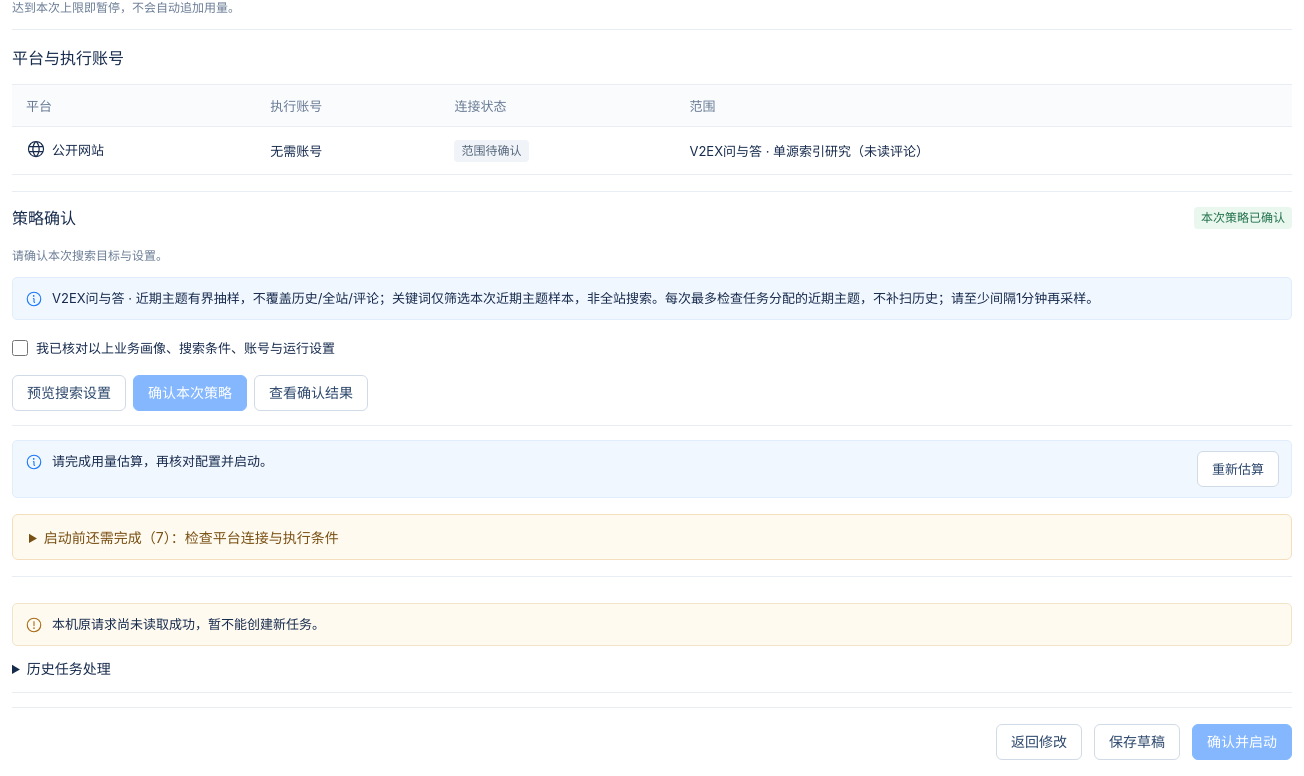
Scenario: original TaskWizard signed execution entry › starts selected v2ex-qna-v1 only while its fresh capability remains available (true, plan false)
(page scrolled)
Click the button "重新估算".
click(1238, 469)  # box [1197,451,1279,487]
(page scrolled)
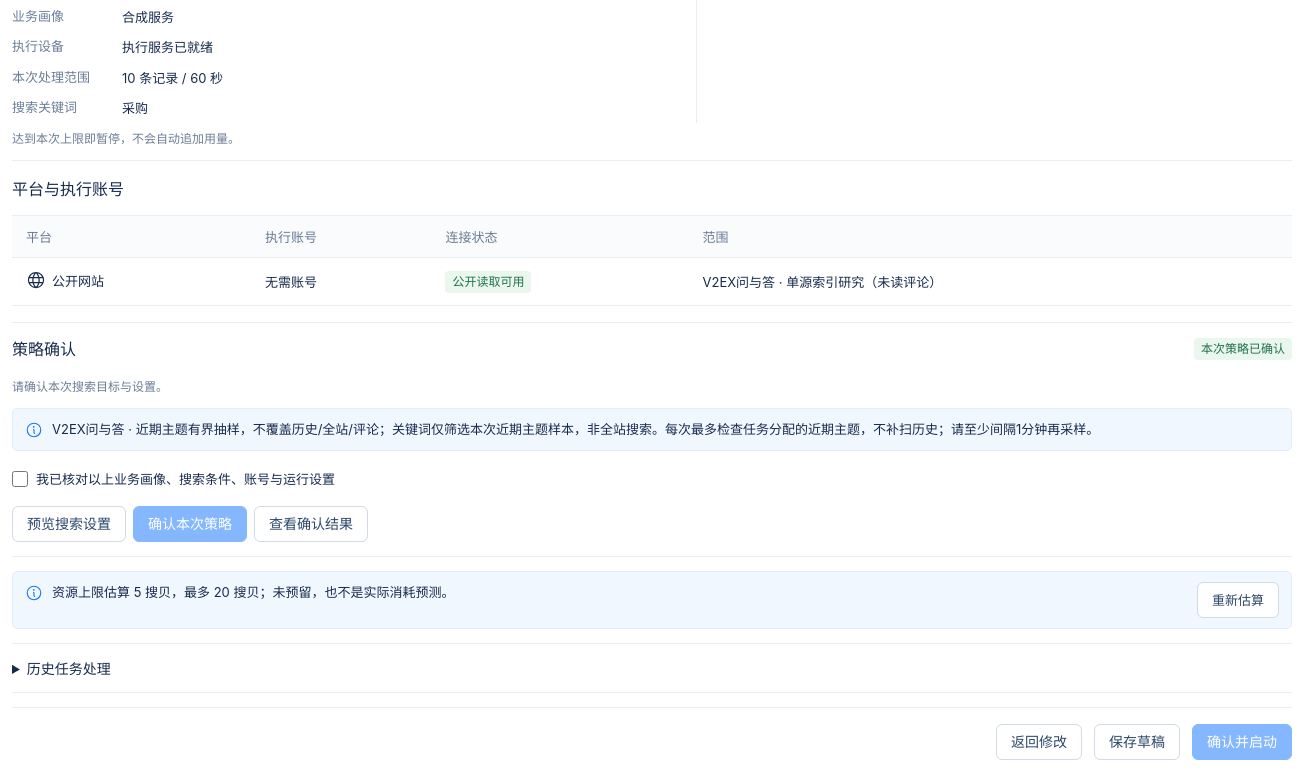
Click the checkbox labelled "我已核对以上业务画像、搜索条件、账号与运行设置".
click(20, 479)  # box [12,471,28,487]
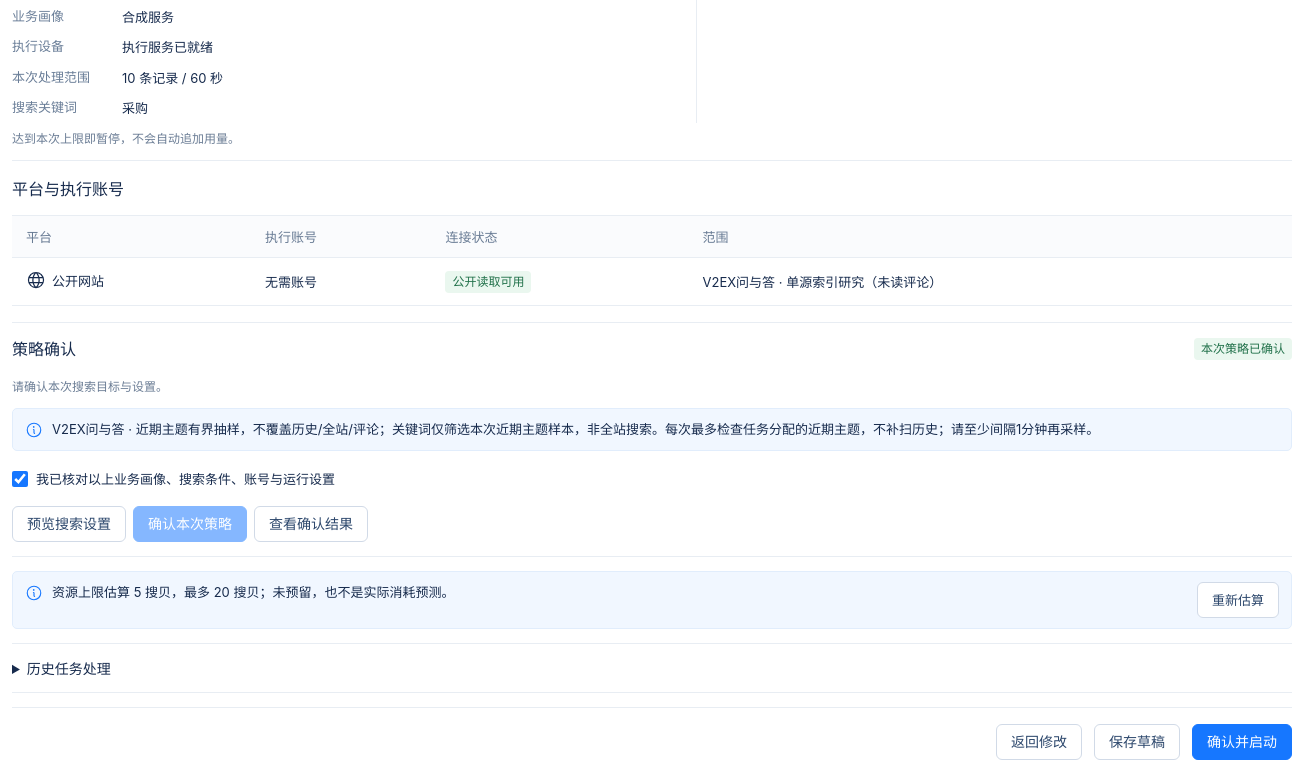
Check: the text "V2EX问与答 · 单源索引研究（未读评论）" is shown, box [688,258,1292,306]
Check: the button "确认并启动" is enabled
Click the button "确认并启动".
click(1242, 742)  # box [1192,724,1292,760]
(page scrolled)
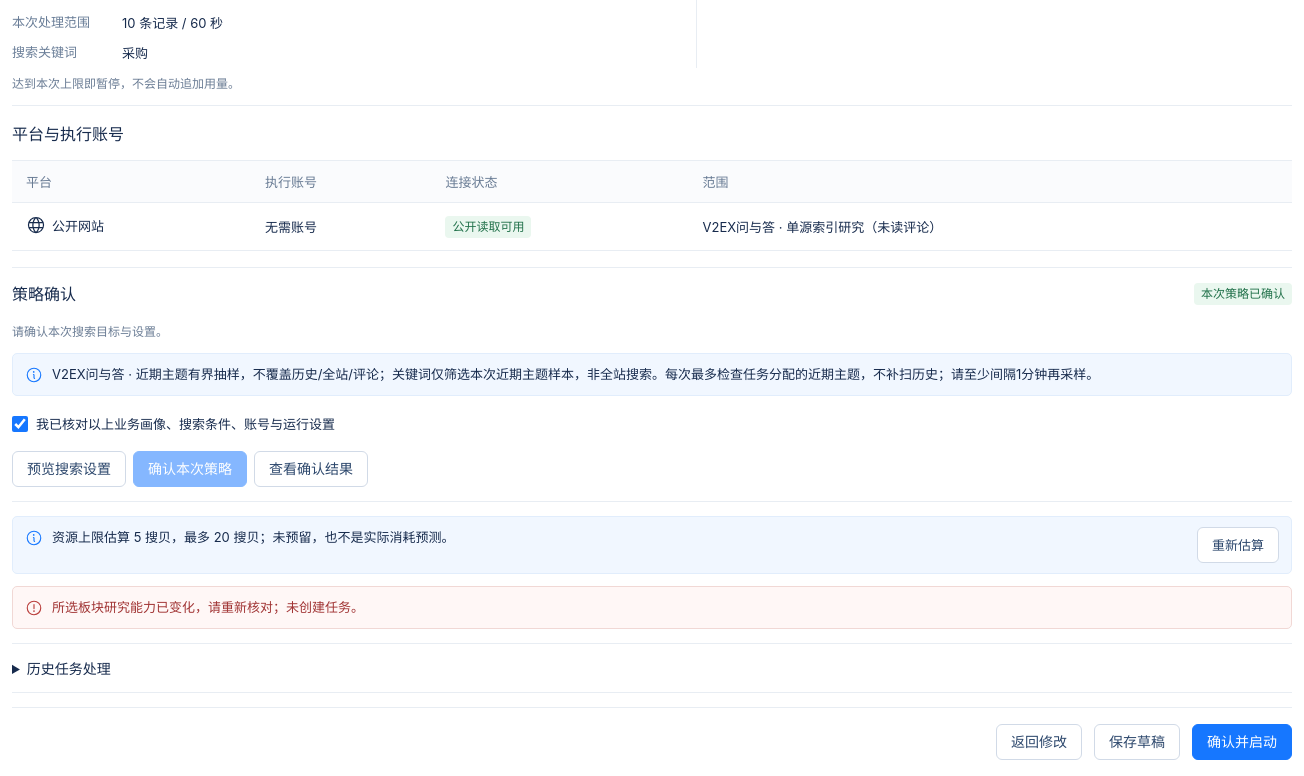
Check: the text "所选板块研究能力已变化，请重新核对；未创建任务。" is shown, box [52,599,364,615]
